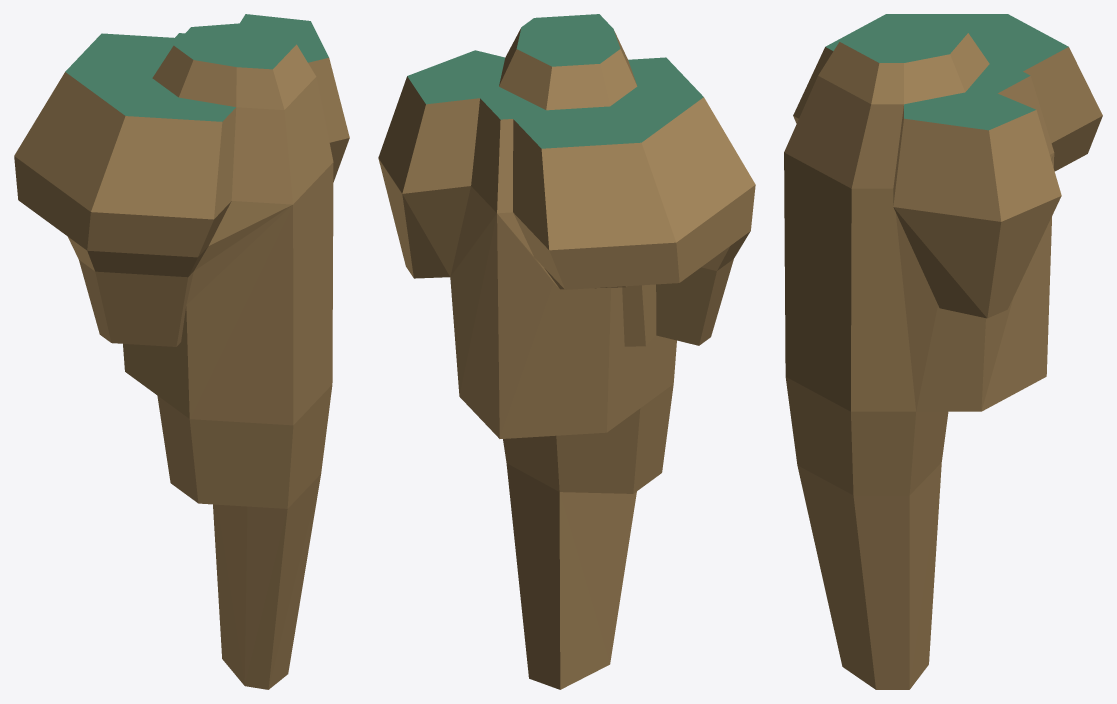
The model's file is Rock_Large_Stone_Floating_Moss_Grass_02.FBX.
3 renders of one model, left to right at view 1: azimuth 30°, elevation 25°; view 2: azimuth 150°, elevation 25°; view 3: azimuth 270°, elevation 25°, orthographic. The views are drawn at different scales.
Visible parts, largest first — view 1: Rock_Large_Stone_Floating_Moss_Grass_02; view 2: Rock_Large_Stone_Floating_Moss_Grass_02; view 3: Rock_Large_Stone_Floating_Moss_Grass_02.
Boxes of the visible parts, <box> form: Rock_Large_Stone_Floating_Moss_Grass_02: <box>14,14,349,689</box>; Rock_Large_Stone_Floating_Moss_Grass_02: <box>378,14,755,689</box>; Rock_Large_Stone_Floating_Moss_Grass_02: <box>784,14,1102,689</box>.
Bounding box in the file's own units: 4787 × 9531 × 4360.
